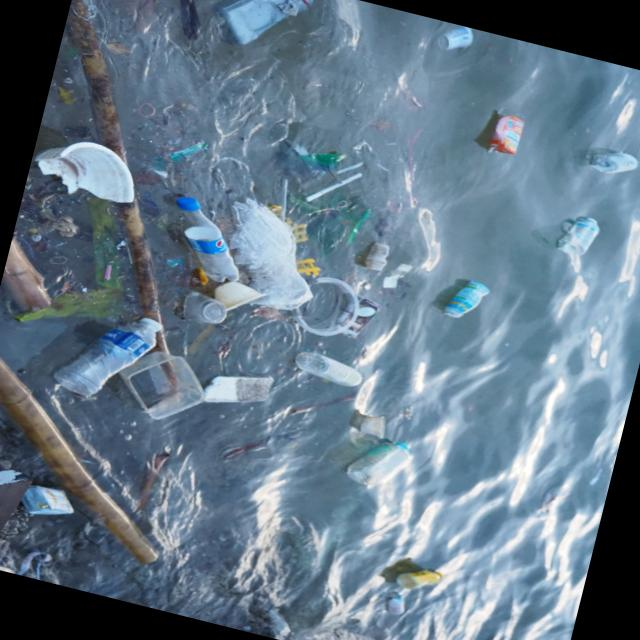foam: (23, 126, 149, 217), (200, 362, 276, 420)
plastic: (44, 299, 172, 409), (156, 189, 257, 283), (210, 0, 313, 61), (340, 424, 418, 496), (284, 346, 370, 392), (549, 207, 602, 261), (440, 274, 494, 325), (578, 142, 640, 183), (389, 558, 446, 594), (374, 590, 409, 622)
plastic bottle: (202, 188, 330, 316), (111, 341, 209, 428), (284, 265, 366, 342), (206, 274, 266, 322), (174, 285, 228, 330), (428, 18, 477, 58), (352, 408, 390, 438)
unknow: (284, 183, 384, 251), (328, 287, 386, 344), (477, 105, 526, 165), (21, 480, 73, 522)
